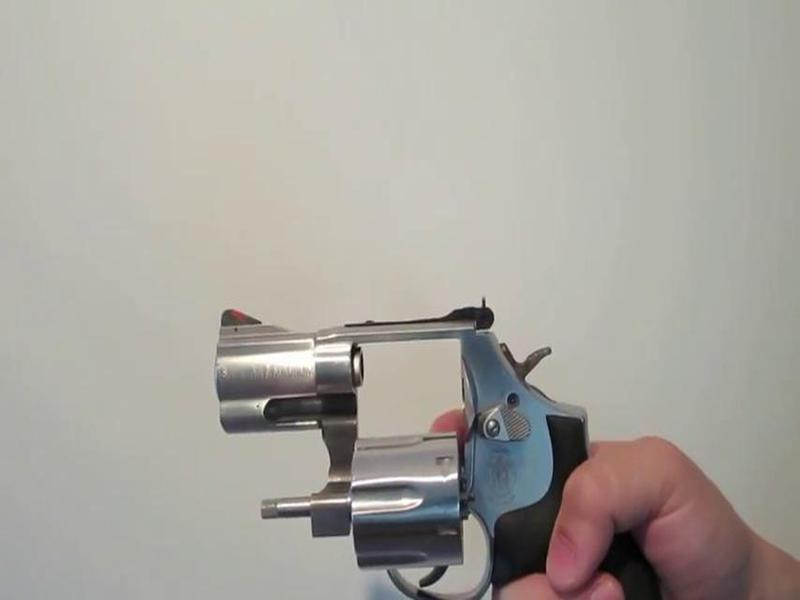Revolver: (208, 281, 653, 600)
